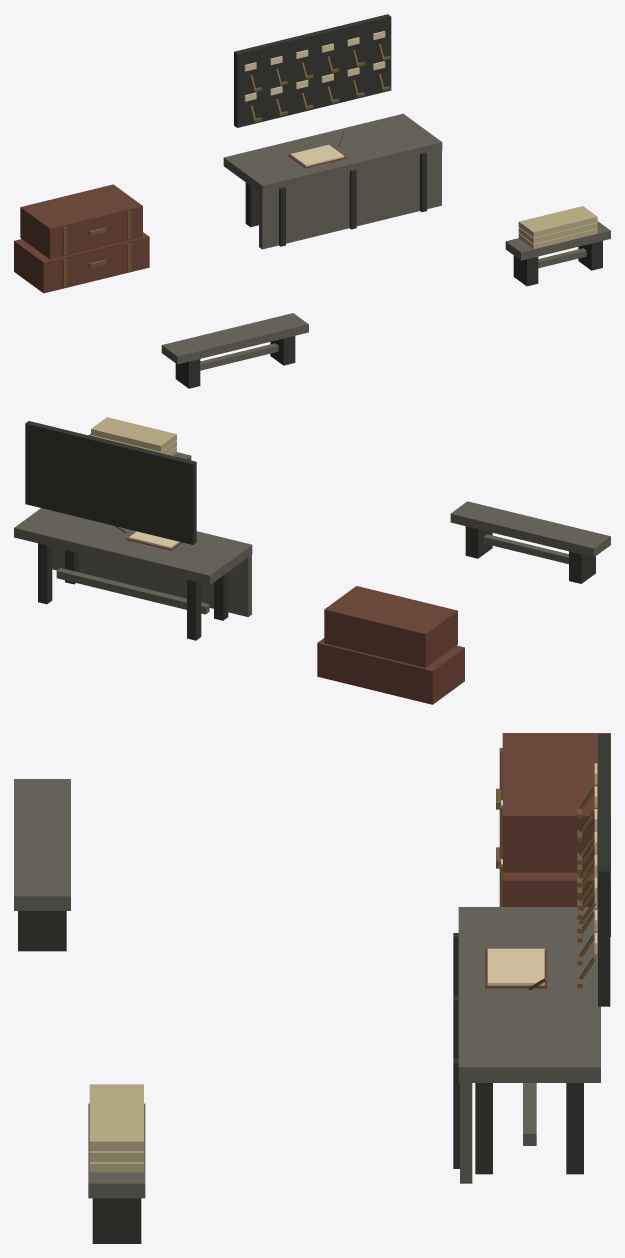
File: village_lanterninn_artifacts.glb
The picture shows the model from 3 angles, top to bottom: view 1: azimuth 30°, elevation 25°; view 2: azimuth 150°, elevation 25°; view 3: azimuth 270°, elevation 25°; orthographic projection. The views are drawn at different scales.
Visible parts, largest first — view 1: village_lanterninn_artifacts; view 2: village_lanterninn_artifacts; view 3: village_lanterninn_artifacts.
Part boxes in pixels (x1,y1,x2,y2): village_lanterninn_artifacts: [14, 14, 610, 388]; village_lanterninn_artifacts: [14, 417, 610, 704]; village_lanterninn_artifacts: [14, 733, 610, 1243].
Size of the model in its own units: 7.08 by 2.5 by 4.41.
